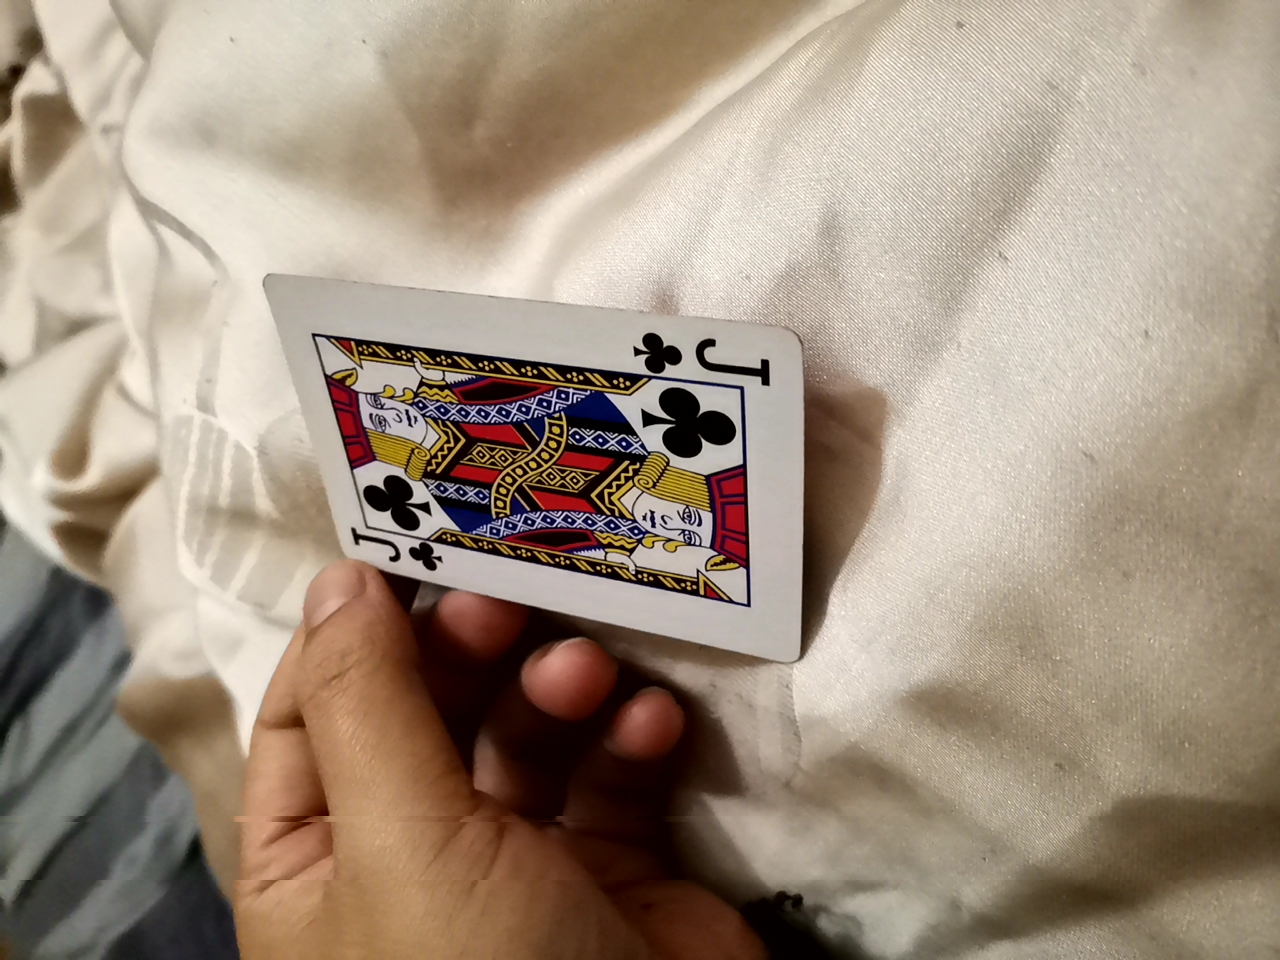mh j: (245, 309, 800, 658)
